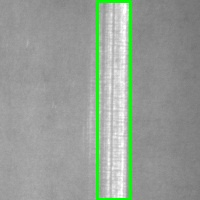scratches: (97, 1, 130, 199)
